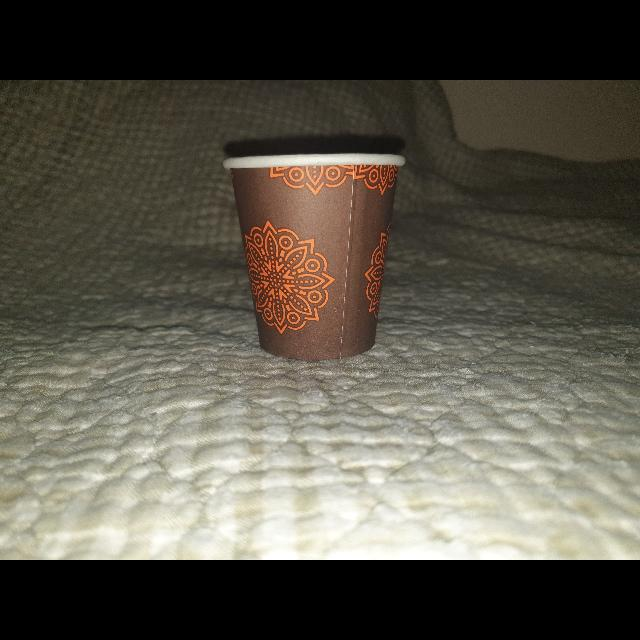trash: (217, 144, 417, 366)
